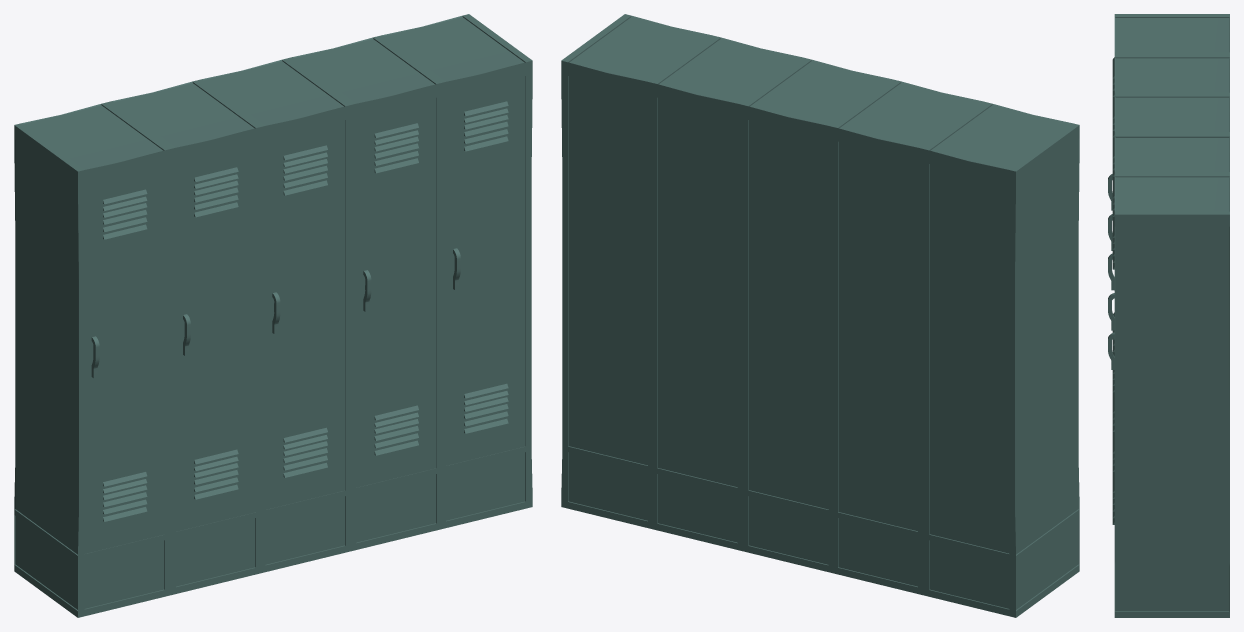
File: PD_5LockerGroup_05-2_DF.fbx
3 renders of one model, left to right at view 1: azimuth 30°, elevation 25°; view 2: azimuth 150°, elevation 25°; view 3: azimuth 270°, elevation 25°, orthographic. The views are drawn at different scales.
Visible parts, largest first — view 1: DoorsandRods, LockerBody; view 2: LockerBody; view 3: LockerBody, DoorsandRods.
Part boxes in pixels (box(x1,y1,x2,y2)): DoorsandRods: box(84, 76, 525, 553); LockerBody: box(14, 14, 532, 617); LockerBody: box(561, 14, 1079, 617); LockerBody: box(1114, 14, 1229, 617); DoorsandRods: box(1108, 57, 1114, 524).
Bounding box in the file's own units: 1.97 × 1.84 × 0.505.
